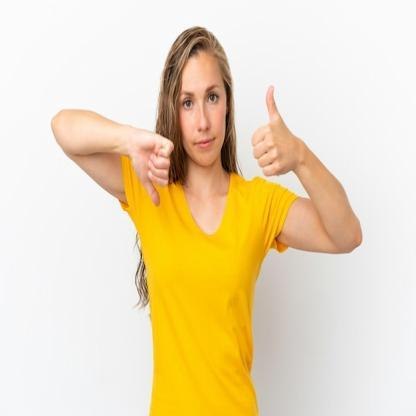thumb_down: (129, 126, 176, 210)
thumb_up: (250, 80, 298, 180)
